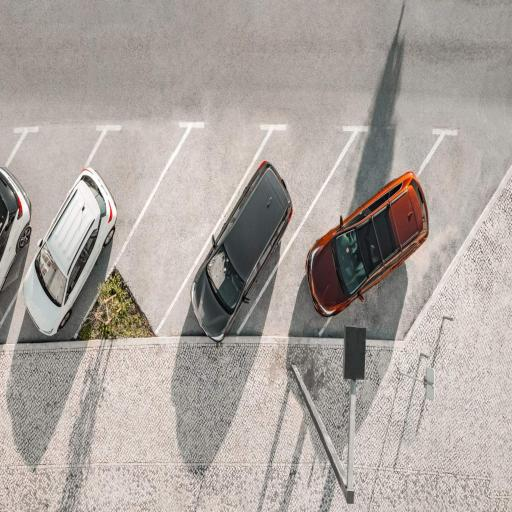Illegal-parking: (315, 110, 447, 351)
